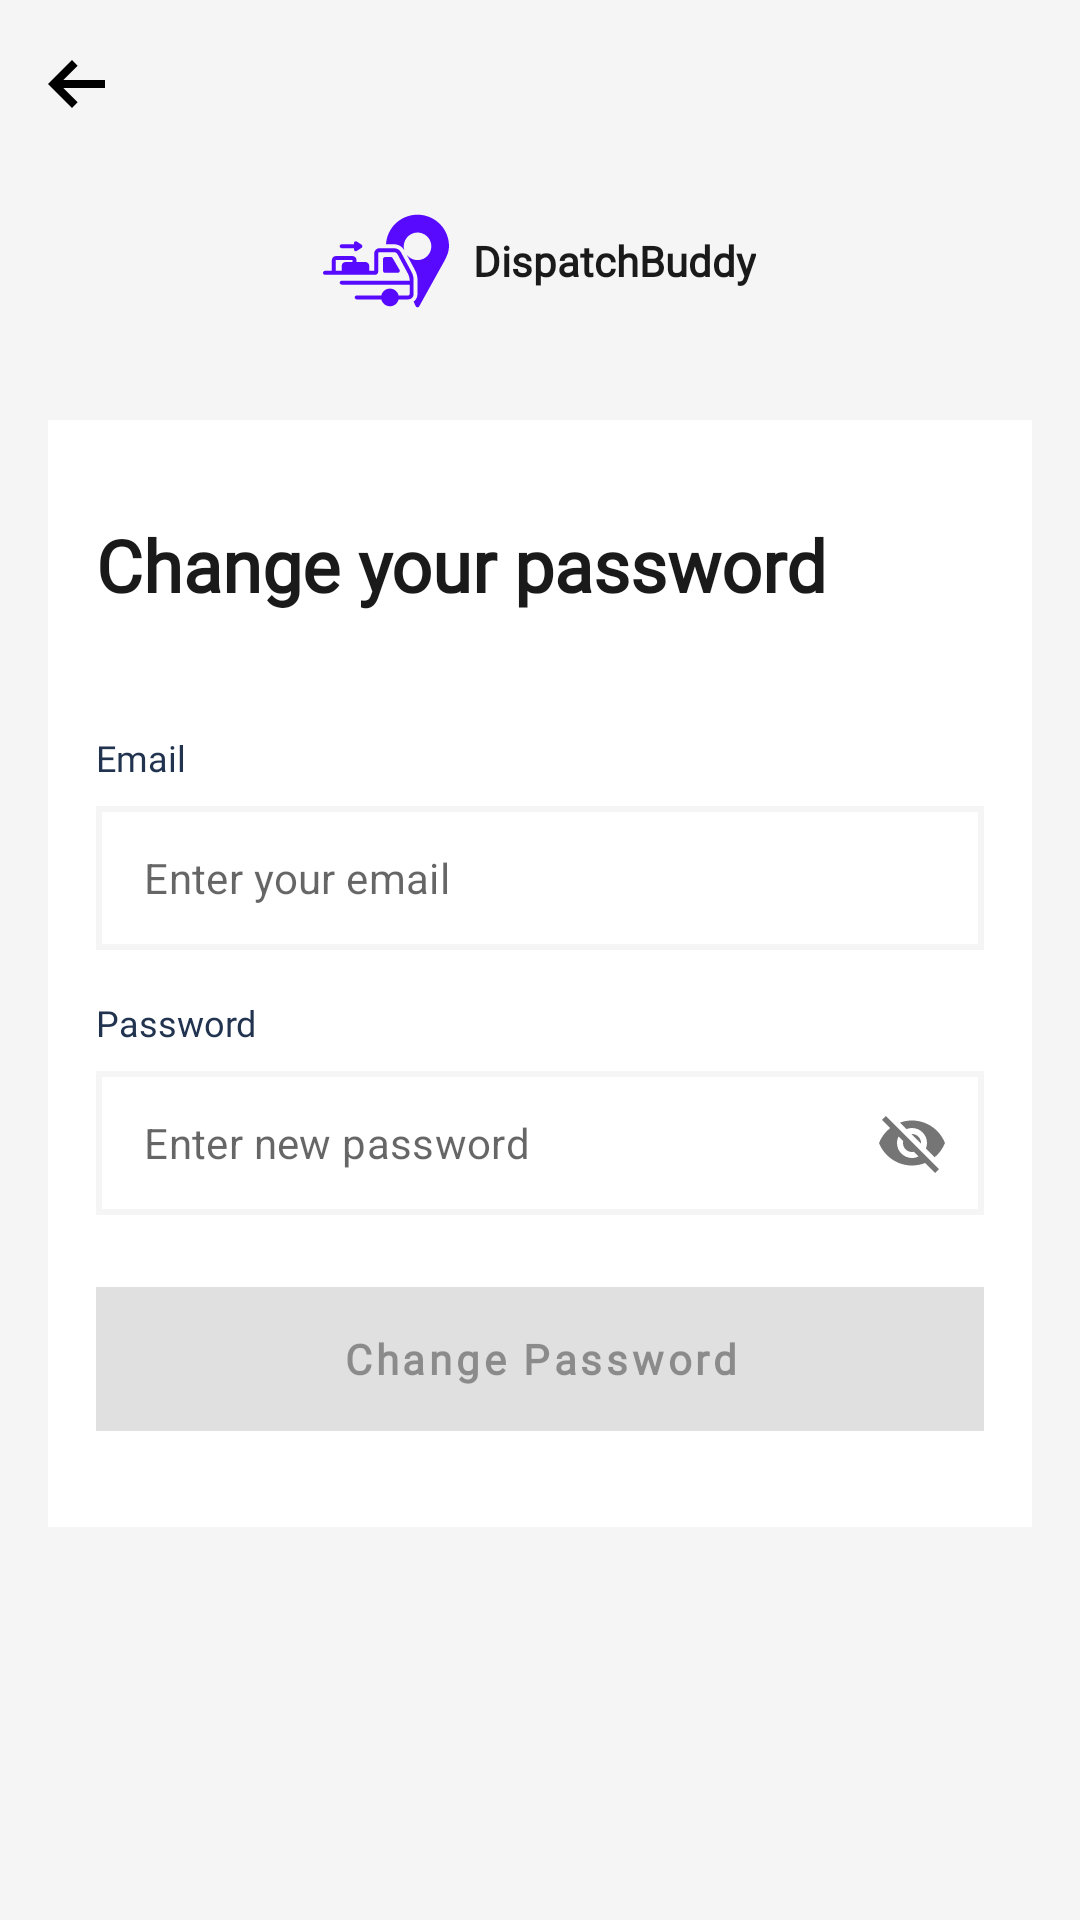

Point at icon controls on the screen. Image size 1080px×1920px, points as [x,y].
back: [76,84]
